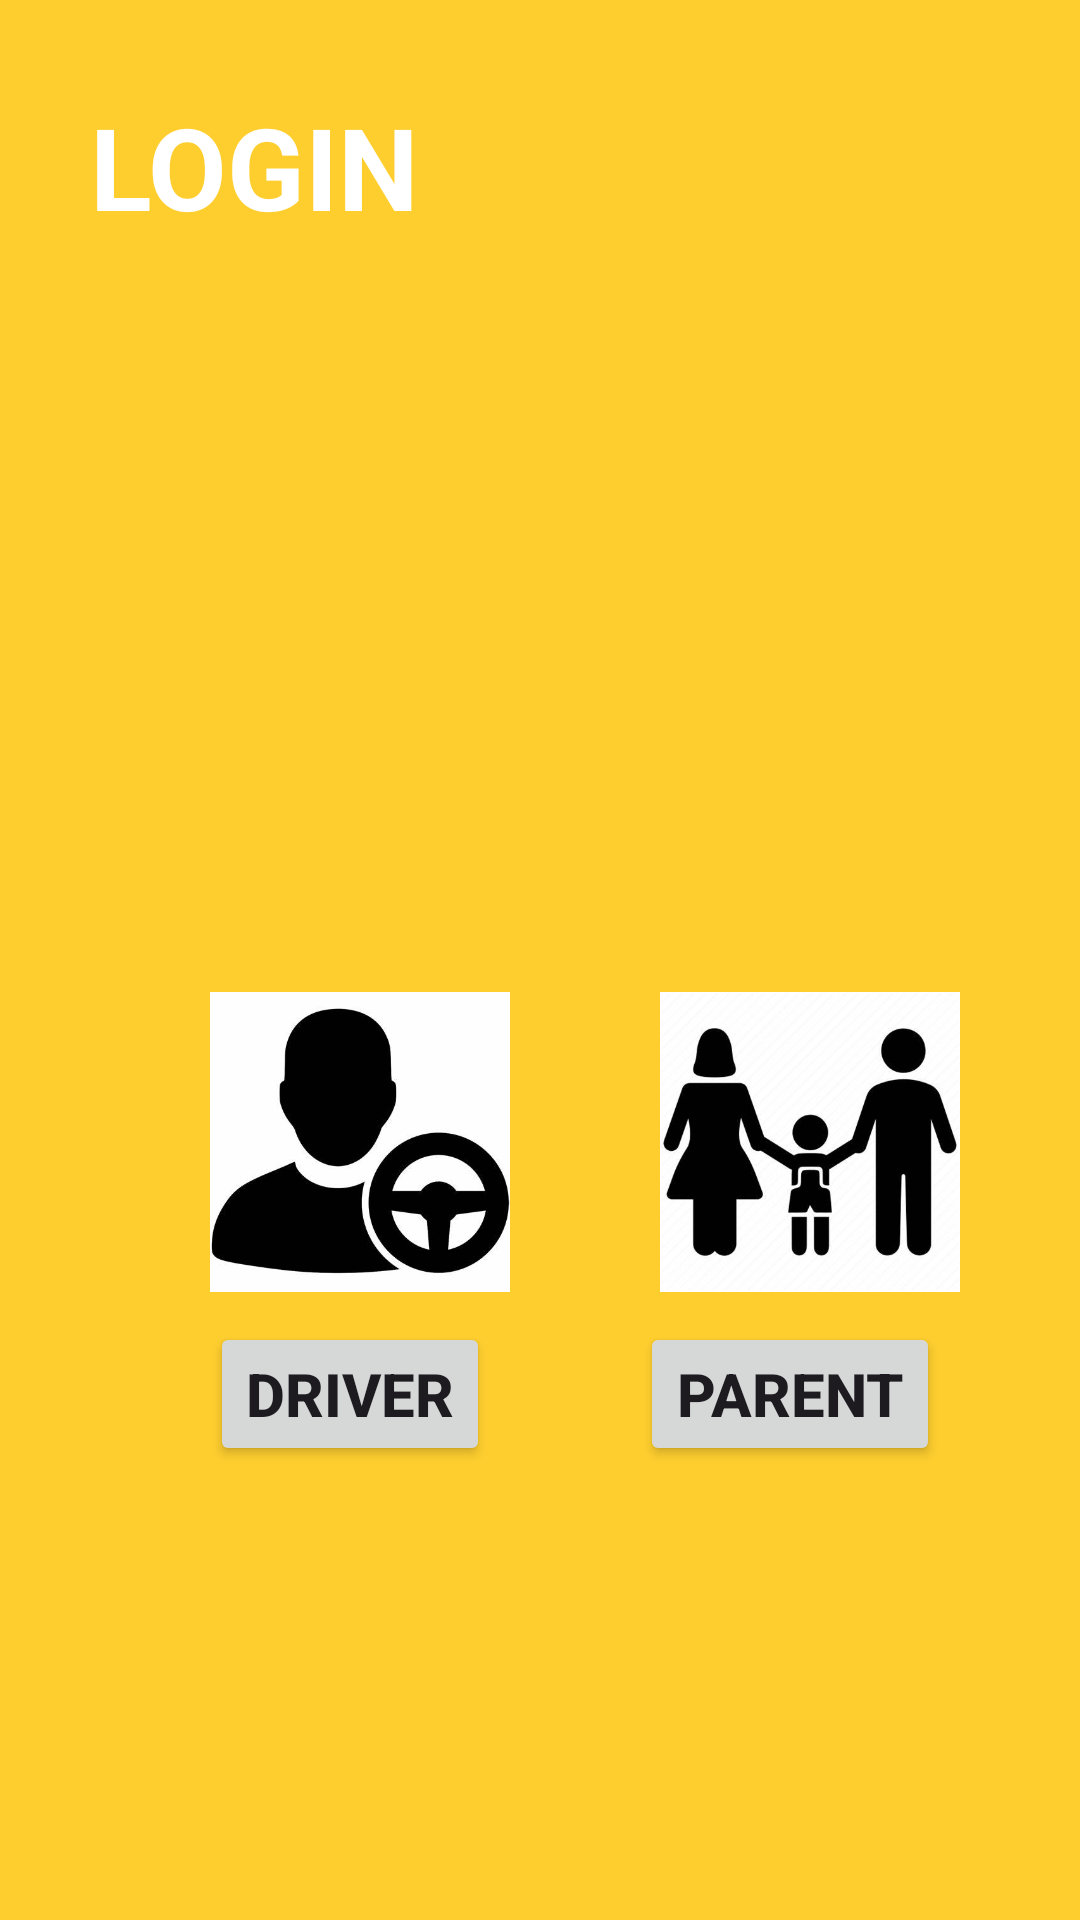

Screen size 1080*1920. Icon name, then its center in pixels as [x,y]:
family: [810,1142]
